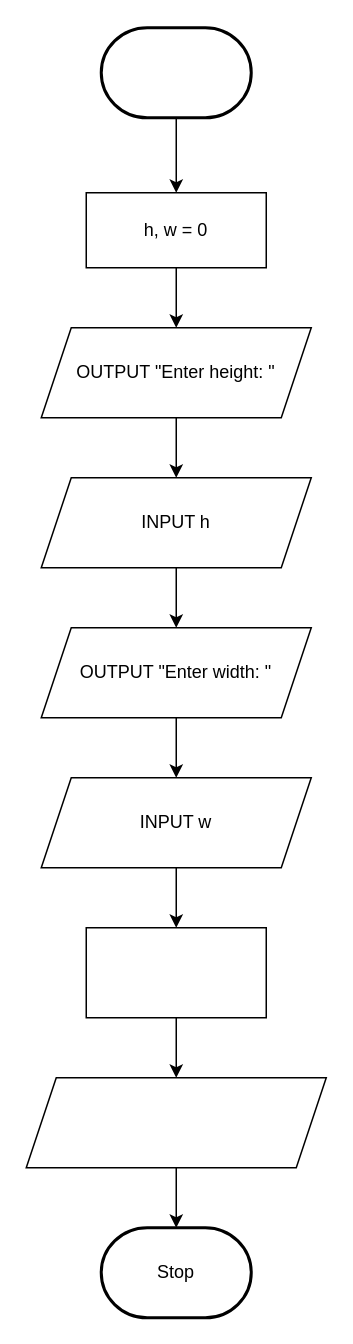
Image size: 353x1344. Some labels were removed from this diagram. Here are the shapes that lost their labels. From the top down, the centre of each, then its label:
(175,72): Start
(175,972): result = (h * w) / 2
(175,1122): OUTPUT "Triagle Area : " result
